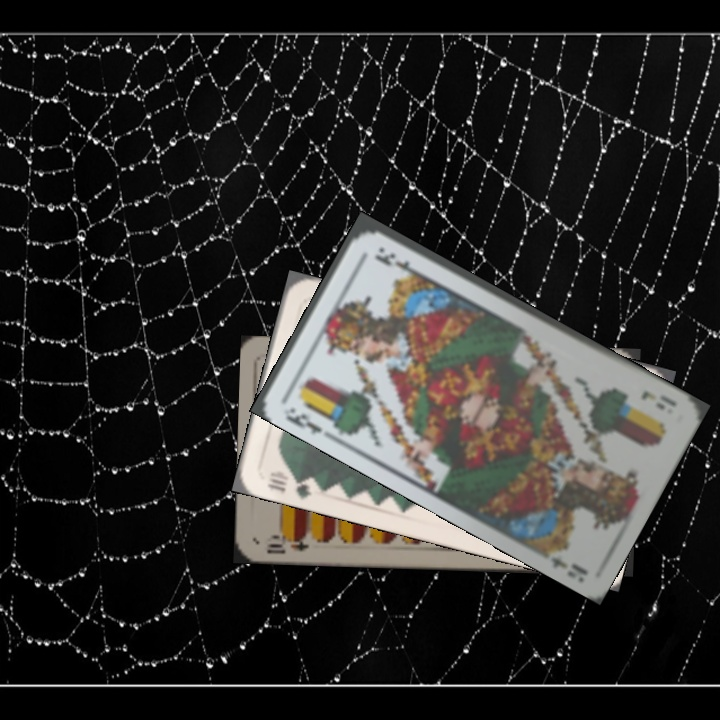E10: (263, 529, 311, 556)
EK: (281, 409, 325, 437), (637, 387, 680, 413)
G10: (262, 466, 314, 501)
